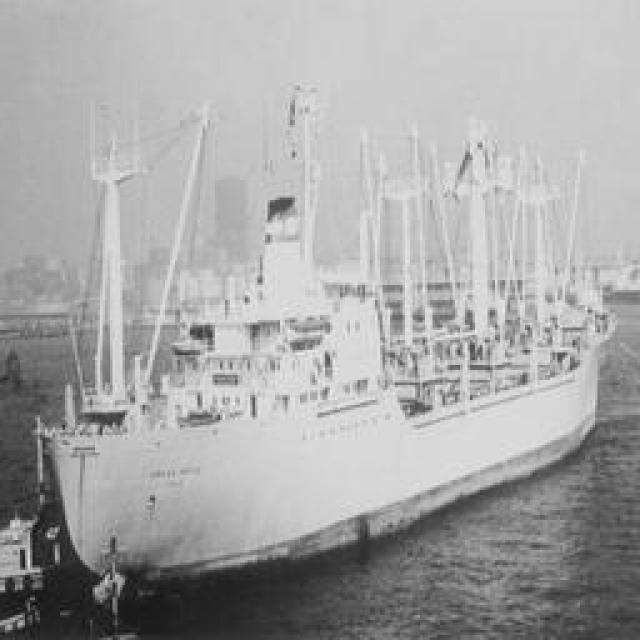Ship: (25, 76, 620, 611)
